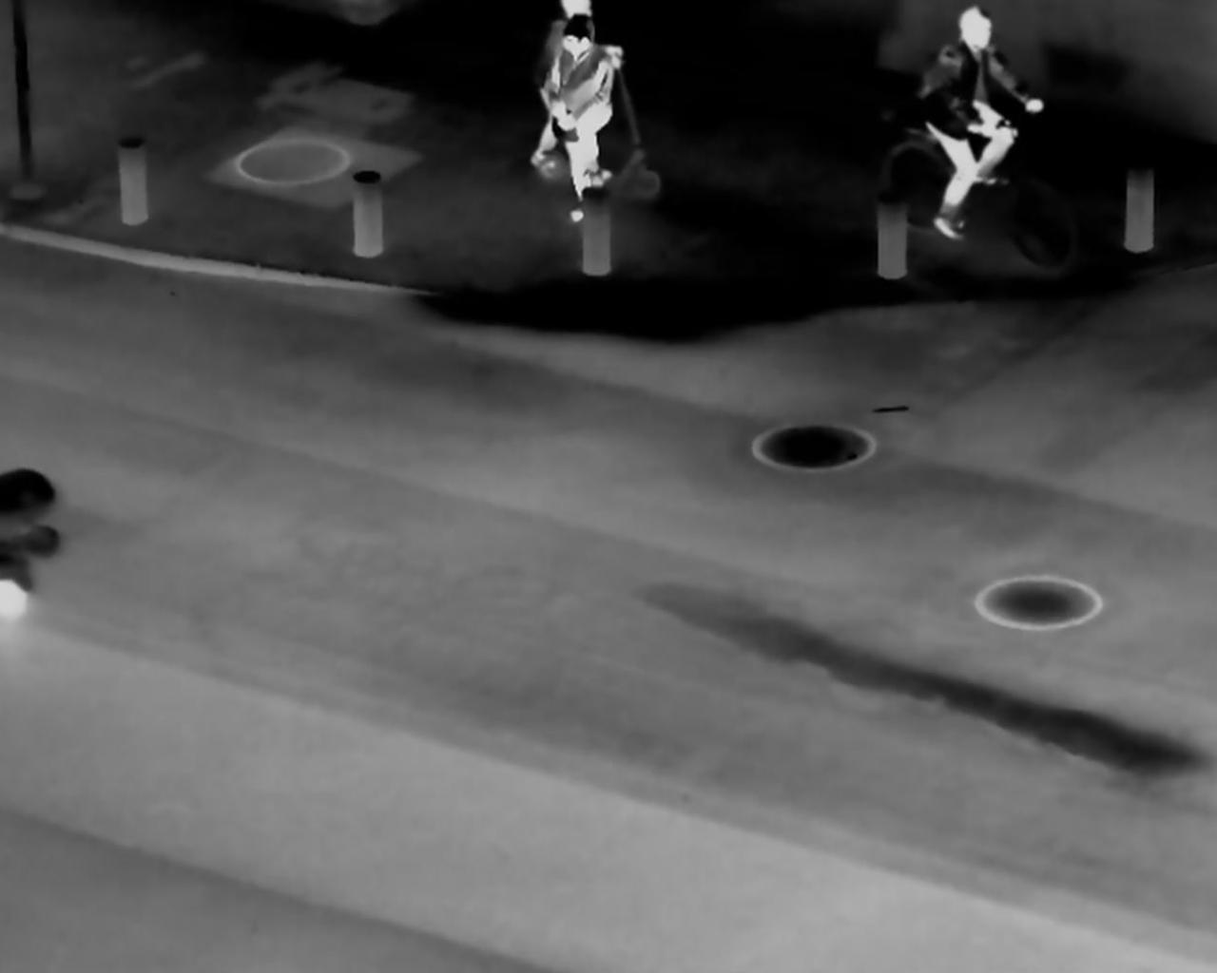person: (537, 18, 625, 225)
